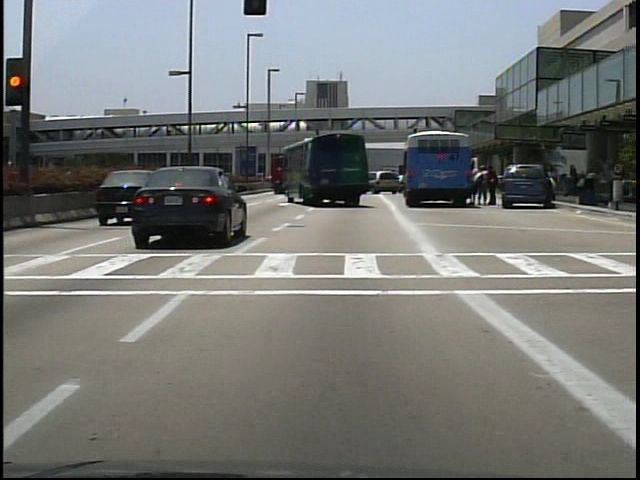person: (470, 162, 485, 205), (486, 164, 498, 208), (547, 167, 560, 205)
